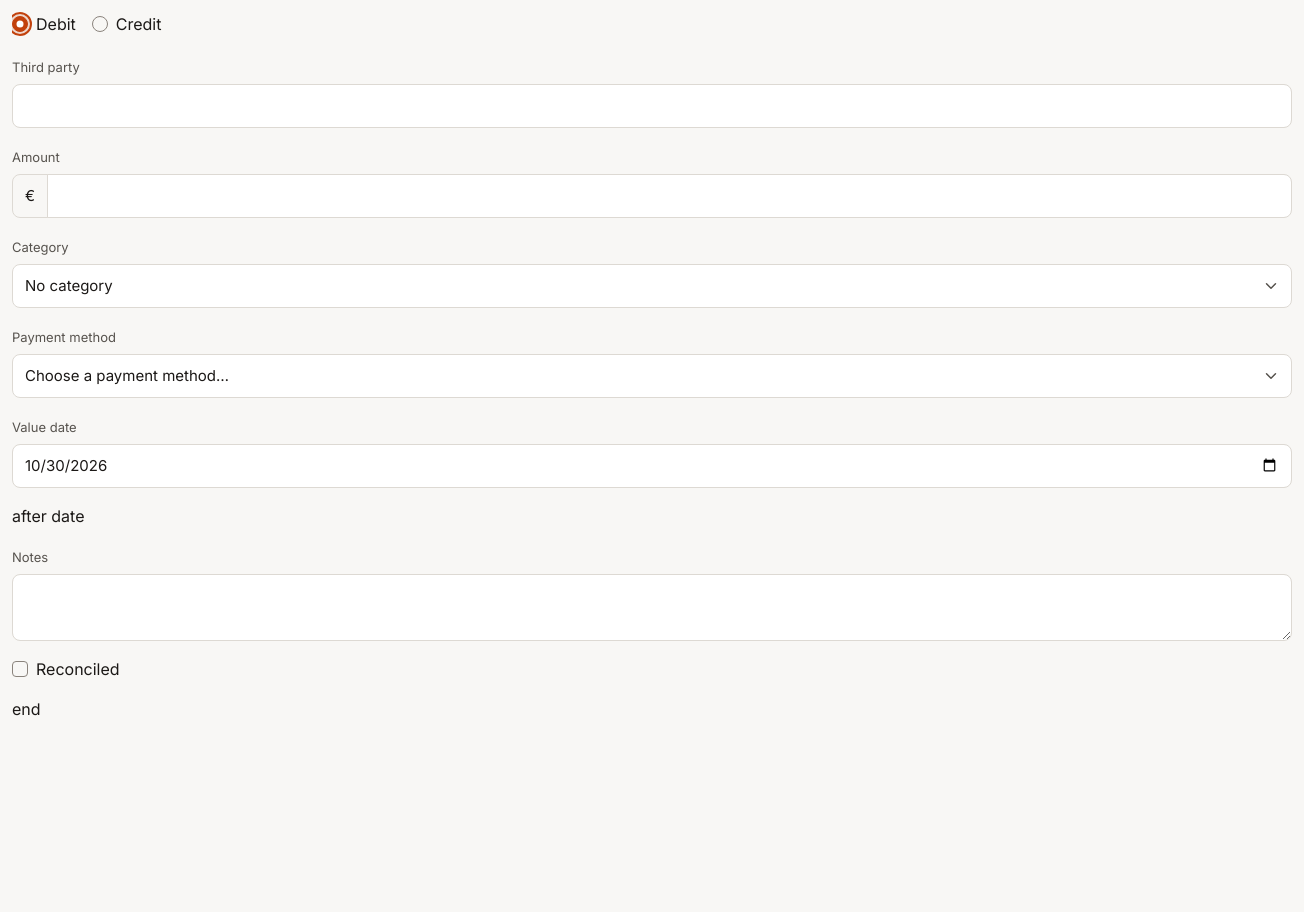
Test: OperationFields › explains under the transfer target that only same-currency accounts are offered
Select "Transfer debit" in the dropdown with id "x-payment-method" at [652, 376], box [12,354,1292,398]
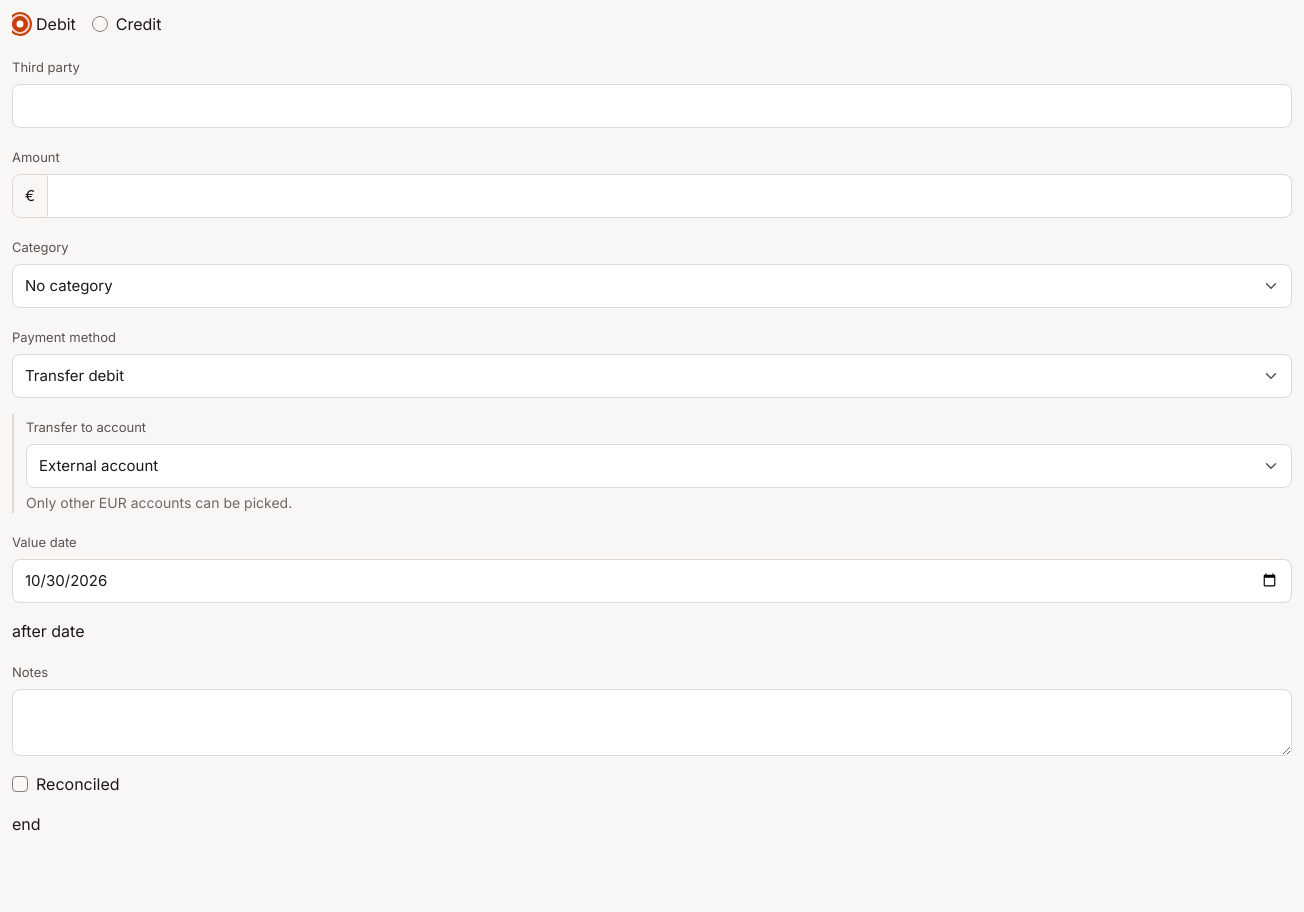
Result: the text with id "x-transfer-account-hint" reads "Only other EUR accounts can be picked." at [26,494,292,511]
